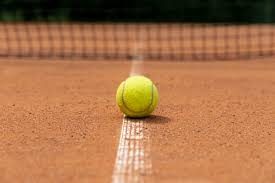tennis_ball: (115, 74, 158, 119)
